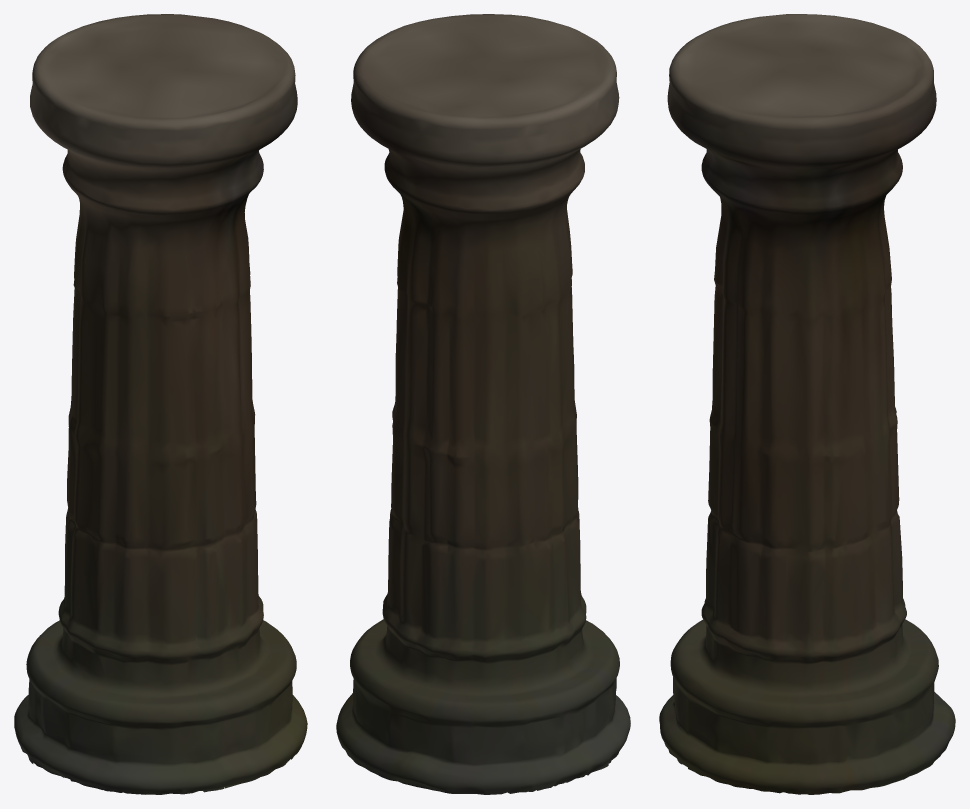
The model's file is arena-lordaeron-pillar.glb.
3 views of the same model, side by side, from view 1: azimuth 30°, elevation 25°; view 2: azimuth 150°, elevation 25°; view 3: azimuth 270°, elevation 25° (orthographic).
Parts seen in each view (by area): view 1: Lordaeron_Pillar_Export; view 2: Lordaeron_Pillar_Export; view 3: Lordaeron_Pillar_Export.
Part boxes in pixels (x1,y1,x2,y2): Lordaeron_Pillar_Export: (14,14,307,794); Lordaeron_Pillar_Export: (336,14,630,794); Lordaeron_Pillar_Export: (659,14,955,794).
Bounding box in the file's own units: 0.0517 × 0.1295 × 0.052.
Materials: 1 (1 with a texture image).
